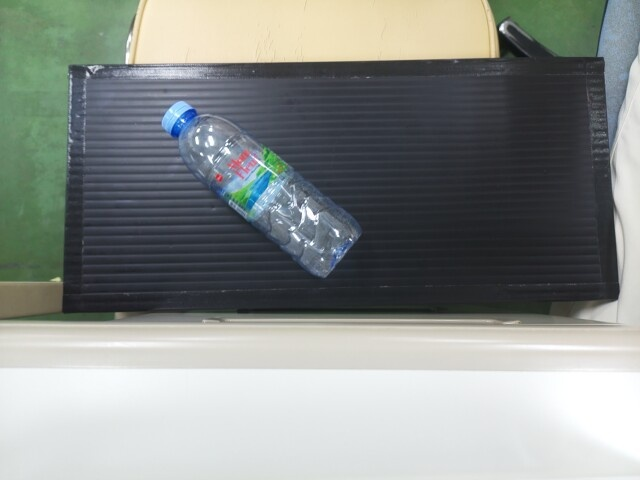plastic_bottle: (153, 91, 361, 275)
